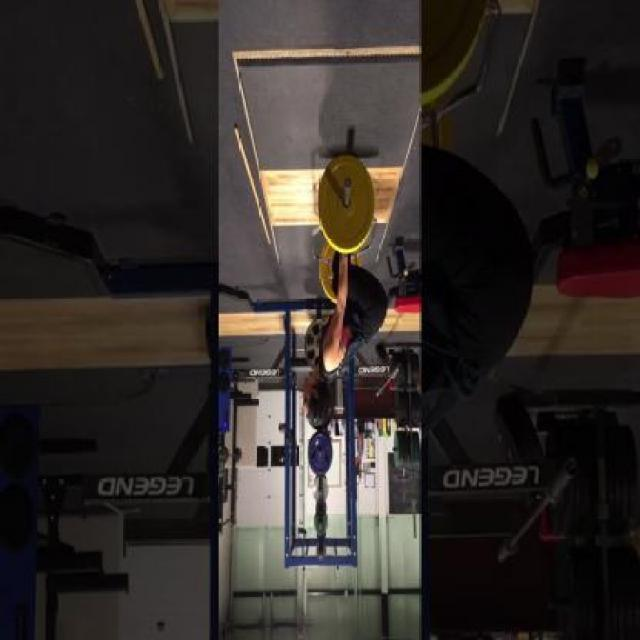Barbell: (339, 169, 356, 200)
